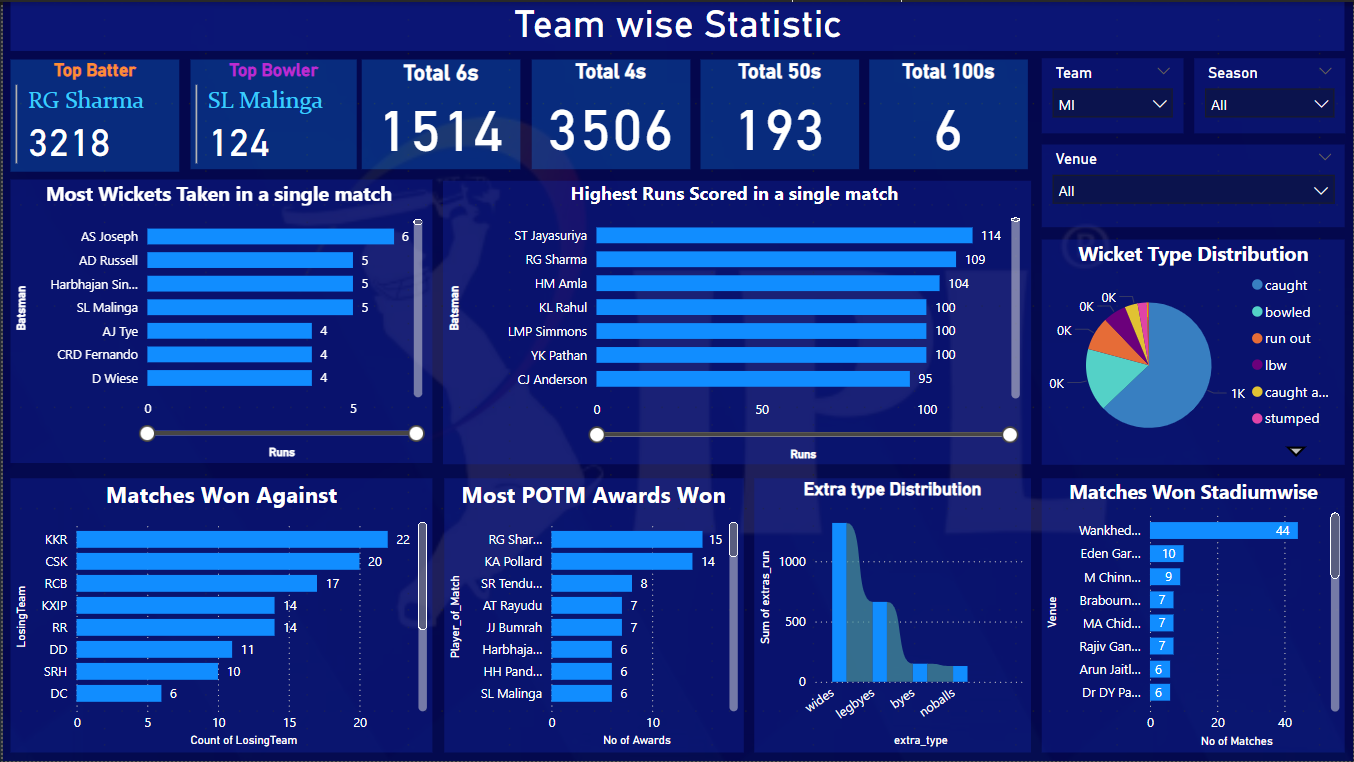

The page's visual inventory and layout, read from the dashboard file:
{"tool":"powerbi","page":{"name":"Team","canvas":[1280,720],"ordinal":1},"visuals":[{"type":"pieChart","title":"Wicket Type Distribution","fields":{"Y":["IPL_Matches_final.DismissalCount"],"Category":["IPL_Balls_final.kind"]},"box":[985.2,225.2,287.4,214],"z":0},{"type":"clusteredBarChart","title":"Matches Won Against","fields":{"Category":["IPL_Matches_final.LosingTeam"],"Y":["CountNonNull(IPL_Matches_final.LosingTeam)"]},"box":[7.5,451.2,400,260],"z":1000},{"type":"textbox","title":"Team wise Statistic","box":[7.5,0,1265.1,46],"z":2000},{"type":"multiRowCard","title":"Top Batter","fields":{"Values":["IPL_Balls_final.Top_Batsman","IPL_Balls_final.MaxRunsValue"]},"box":[7,54,160,106.2],"z":3000},{"type":"multiRowCard","title":"Top Bowler","fields":{"Values":["IPL_Balls_final.Top_Bowler","IPL_Balls_final.MaxBowlerWicketsValue"]},"box":[178.3,54,157.5,103.8],"z":4000},{"type":"clusteredBarChart","title":"Highest Runs Scored in a single match","fields":{"Category":["IPL_Balls_final.batter"],"Y":["IPL_Balls_final.HighestRunsScored"]},"box":[417.5,170,557.5,268.8],"z":5000},{"type":"clusteredBarChart","title":"Most Wickets Taken in a single match","fields":{"Y":["IPL_Balls_final.HighestWicketsInMatch"],"Category":["IPL_Balls_final.bowler"]},"box":[7.5,168.8,400,268.8],"z":6000},{"type":"barChart","title":"Matches Won Stadiumwise","fields":{"Category":["IPL_Matches_final.Venue"],"Y":["CountNonNull(IPL_Matches_final.WinningTeam)"]},"box":[985.2,451.6,287.4,260],"z":7000},{"type":"ribbonChart","title":"Extra type Distribution","fields":{"Category":["IPL_Balls_final.extra_type"],"Y":["Sum(IPL_Balls_final.extras_run)"]},"box":[712.8,451.6,262.5,260],"z":8000},{"type":"clusteredBarChart","title":"Most POTM Awards Won","fields":{"Category":["IPL_Matches_final.Player_of_Match"],"Y":["CountNonNull(IPL_Matches_final.Player_of_Match)"]},"box":[418,451.6,283.6,260],"z":9000},{"type":"slicer","fields":{"Values":["IPL_Matches_final.Season"]},"box":[1129.5,53.5,143.1,70.9],"z":10000},{"type":"slicer","fields":{"Values":["IPL_Matches_final.Venue"]},"box":[985.2,135.6,287.4,78.4],"z":11000},{"type":"slicer","fields":{"Values":["Teams.Team"]},"box":[985.2,53.5,134.3,70.9],"z":12000},{"type":"card","title":"Total 4s","fields":{"Values":["IPL_Balls_final.Total4s"]},"box":[501.3,55,150,103.8],"z":13000},{"type":"card","title":"Total 6s","fields":{"Values":["IPL_Balls_final.6s"]},"box":[340,55,150,103.8],"z":14000},{"type":"card","title":"Total 50s","fields":{"Values":["IPL_Balls_final.50s"]},"box":[661.3,55,150,103.8],"z":15000},{"type":"card","title":"Total 100s","fields":{"Values":["IPL_Balls_final.100s"]},"box":[821.3,55,150,103.8],"z":16000}]}

Visuals, with their boxes in screenshot pixels (x1, y1, x2, y2), scaled from the page's 1280x720 canvas onto the 1354x762 screenshot:
"Wicket Type Distribution" pieChart: bbox=[1042, 238, 1346, 465]
"Matches Won Against" clusteredBarChart: bbox=[8, 478, 431, 753]
"Team wise Statistic" textbox: bbox=[8, 0, 1346, 49]
"Top Batter" multiRowCard: bbox=[7, 57, 177, 170]
"Top Bowler" multiRowCard: bbox=[189, 57, 355, 167]
"Highest Runs Scored in a single match" clusteredBarChart: bbox=[442, 180, 1031, 464]
"Most Wickets Taken in a single match" clusteredBarChart: bbox=[8, 179, 431, 463]
"Matches Won Stadiumwise" barChart: bbox=[1042, 478, 1346, 753]
"Extra type Distribution" ribbonChart: bbox=[754, 478, 1032, 753]
"Most POTM Awards Won" clusteredBarChart: bbox=[442, 478, 742, 753]
slicer - IPL_Matches_final.Season: bbox=[1195, 57, 1346, 132]
slicer - IPL_Matches_final.Venue: bbox=[1042, 144, 1346, 226]
slicer - Teams.Team: bbox=[1042, 57, 1184, 132]
"Total 4s" card: bbox=[530, 58, 689, 168]
"Total 6s" card: bbox=[360, 58, 518, 168]
"Total 50s" card: bbox=[700, 58, 858, 168]
"Total 100s" card: bbox=[869, 58, 1027, 168]
